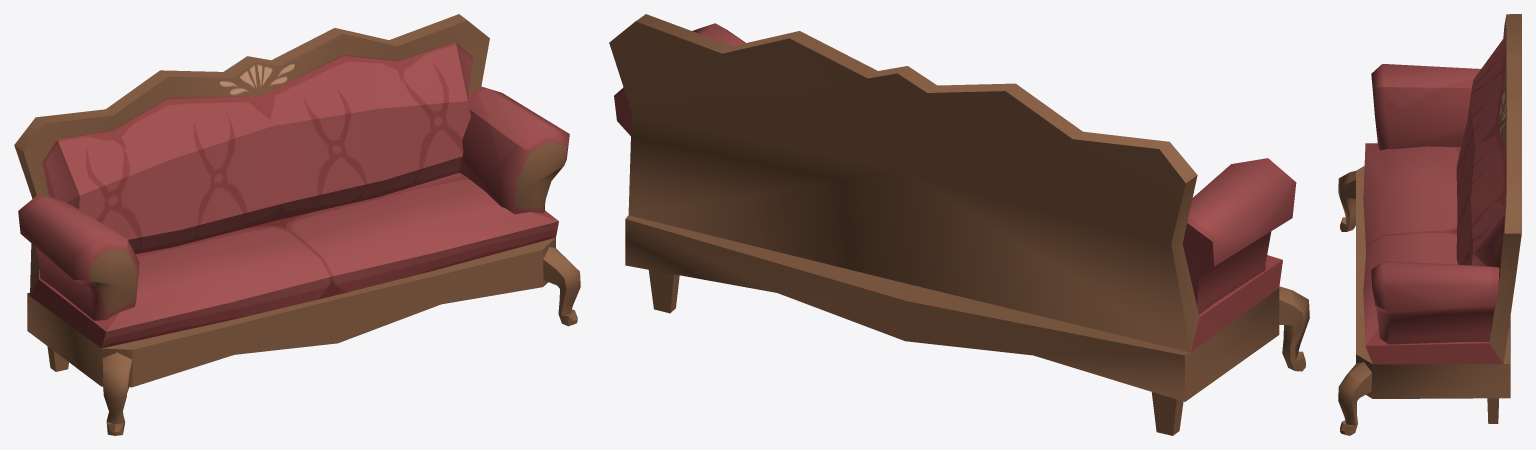
Rendered from sofa02.FBX.
3 views of the same model, side by side, from view 1: azimuth 30°, elevation 25°; view 2: azimuth 150°, elevation 25°; view 3: azimuth 270°, elevation 25° (orthographic). The views are drawn at different scales.
Visible parts, largest first — view 1: 소파002; view 2: 소파002; view 3: 소파002.
Boxes of the visible parts, left/top/right/bottom form: 소파002: left=14, top=14, right=580, bottom=435; 소파002: left=609, top=14, right=1309, bottom=435; 소파002: left=1338, top=14, right=1521, bottom=435.
Bounding box in the file's own units: 91.78 × 46.11 × 32.24.
